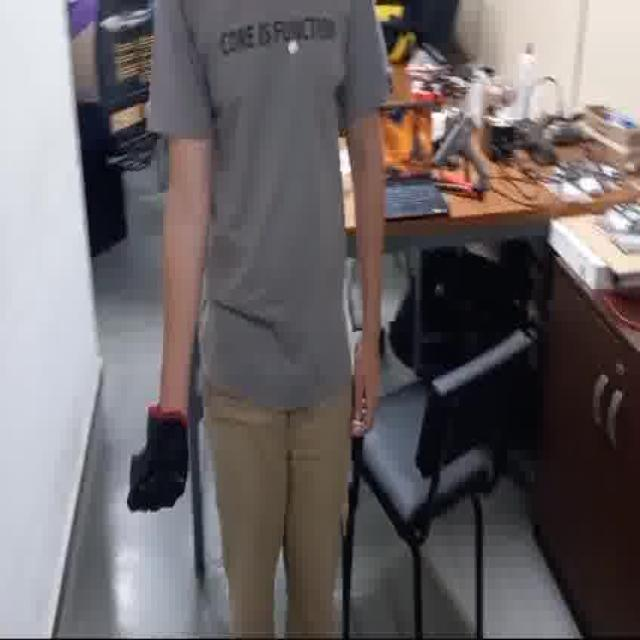Gloves: (123, 402, 195, 520)
